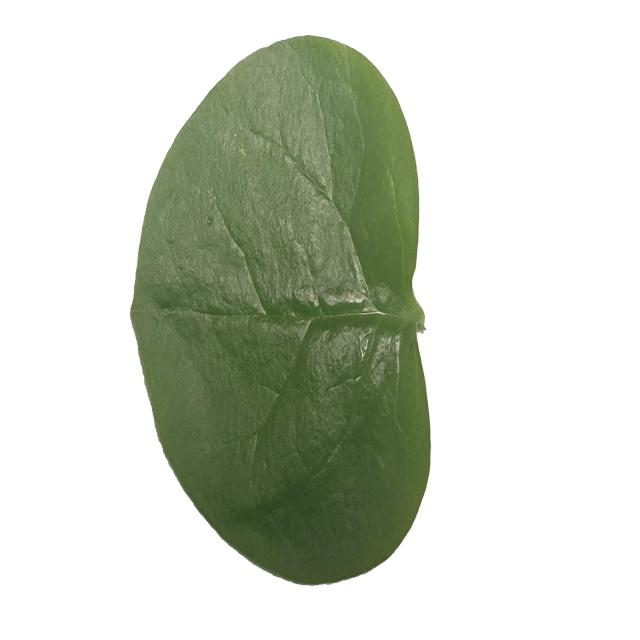Medicinal-Basale: (129, 33, 432, 584)
